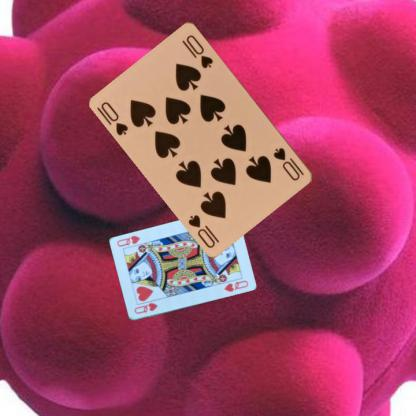10s: (271, 145, 306, 182), (98, 99, 130, 137)
Qh: (132, 300, 159, 316)
